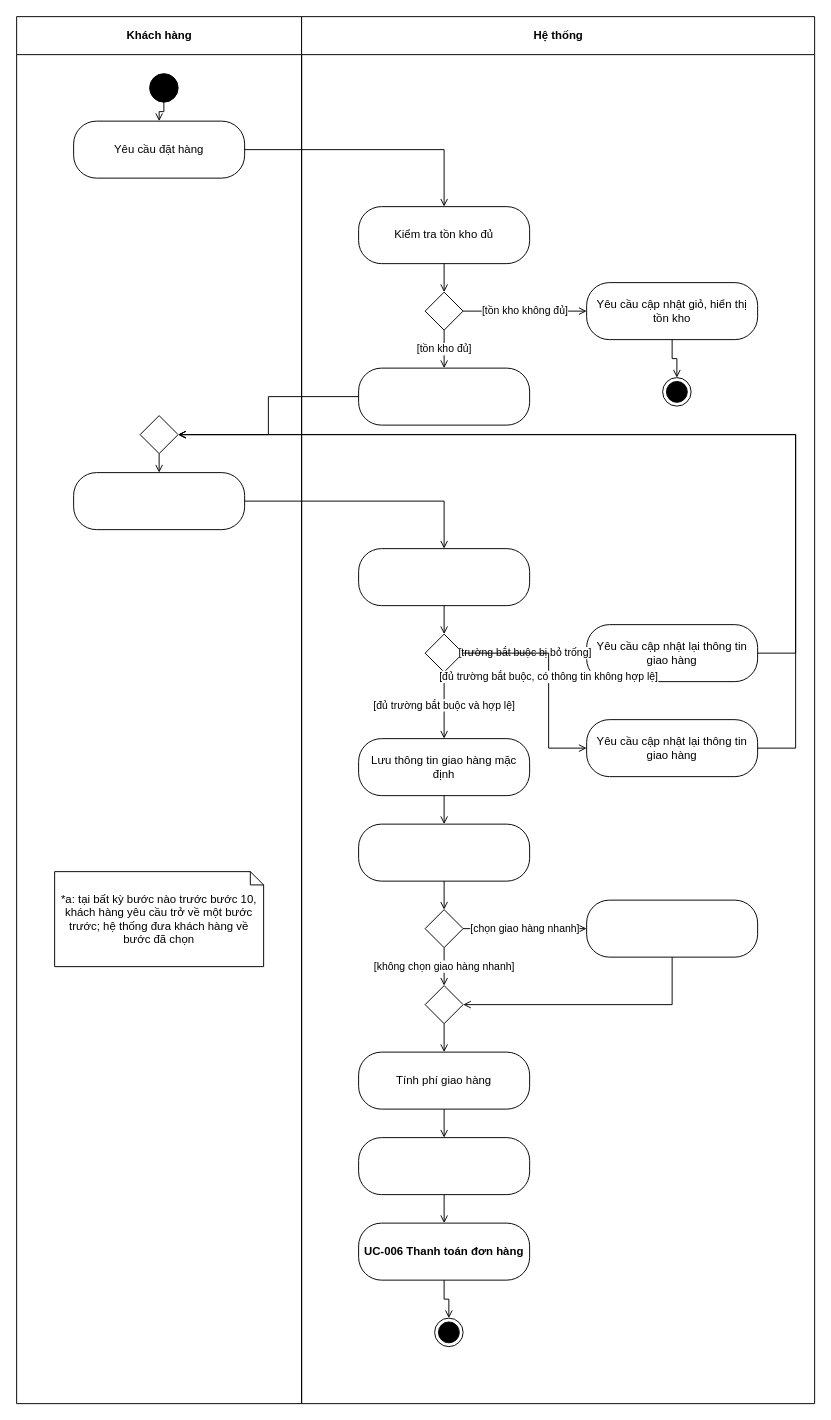
Some shapes in this 831 by 1420 pixel diagram are drawn without their labels. The shapes that lost their labels are listed below. From the top down, each one's centre as x and y in pixels, then its label:
point (444, 396): Hiển thị thông tin giao hàng mặc định
point (159, 501): Nhập và gửi thông tin giao hàng
point (444, 577): Kiểm tra thông tin giao hàng
point (444, 852): Kiểm tra lựa chọn giao hàng nhanh
point (672, 928): UC-005 Đặt hàng giao nhanh
point (444, 1166): Hiển thị và lưu đơn hàng tạm thời
